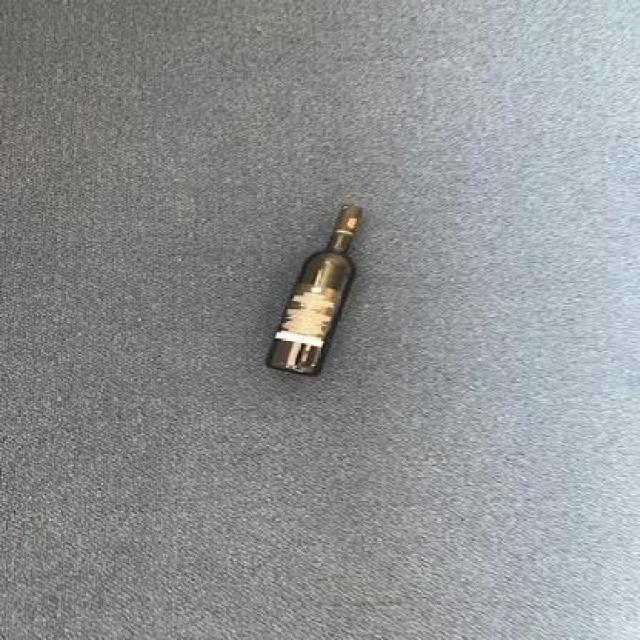trash: (263, 202, 374, 382)
